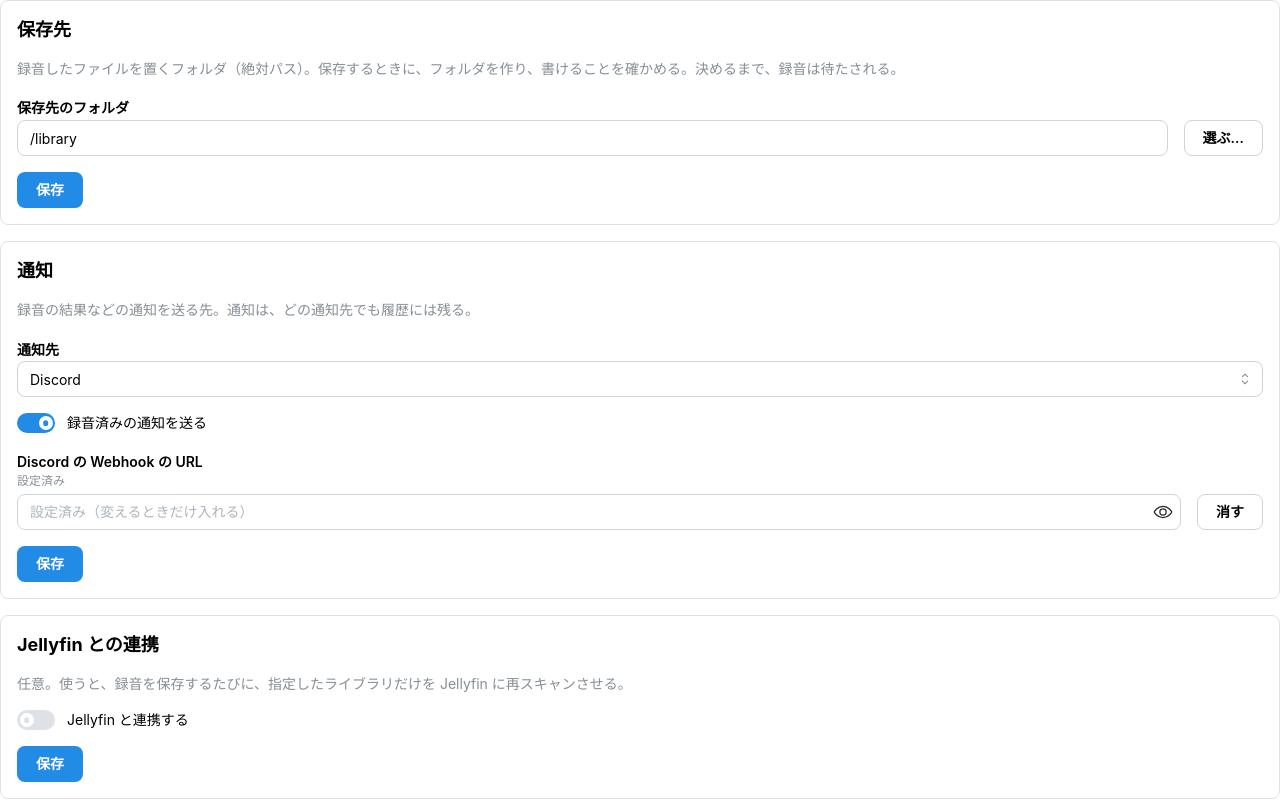
Test: SettingsPage › 保存先を変えて保存すると、library だけを送る
The width and height of the screenshot is (1280, 800).
In the field labelled "保存先のフォルダ": (592, 138) [17, 120, 1168, 156], type "/music"
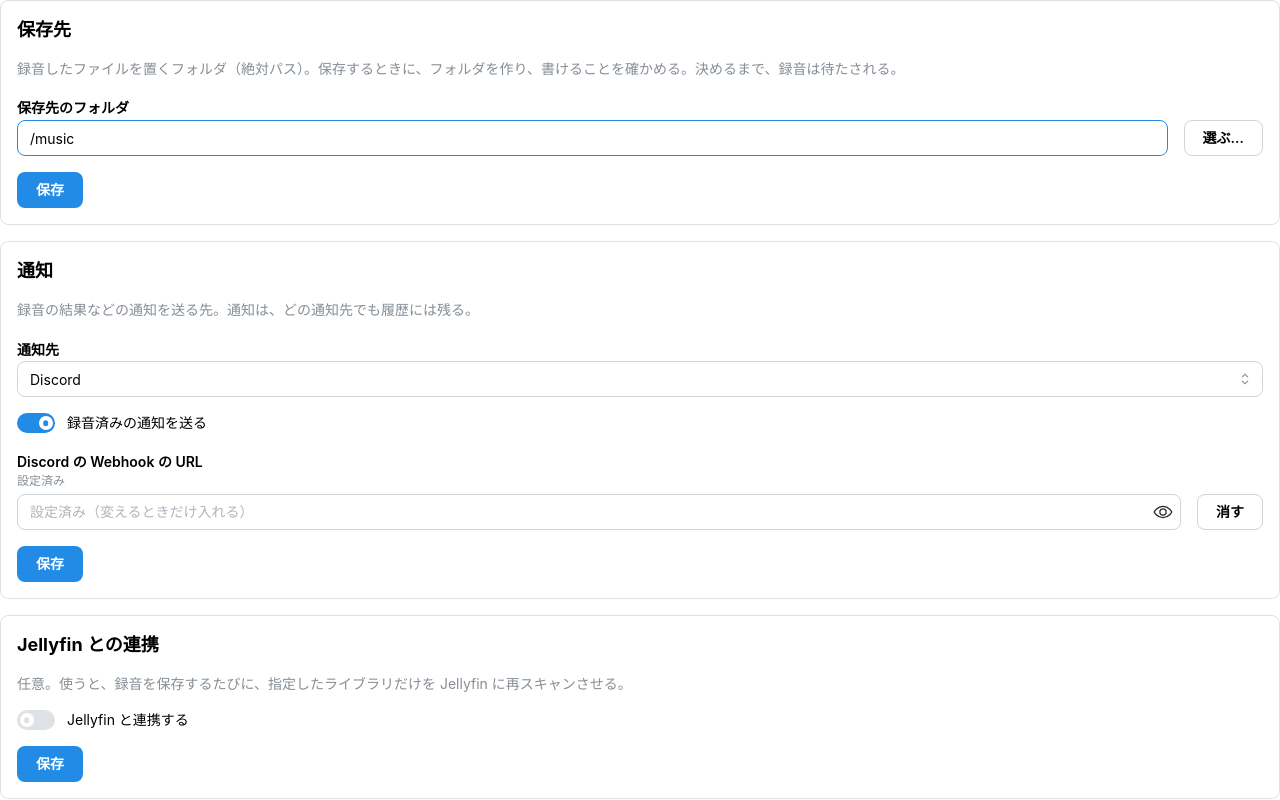
Click the button "保存" below "保存先のフォルダ": (50, 190) [17, 172, 83, 208]
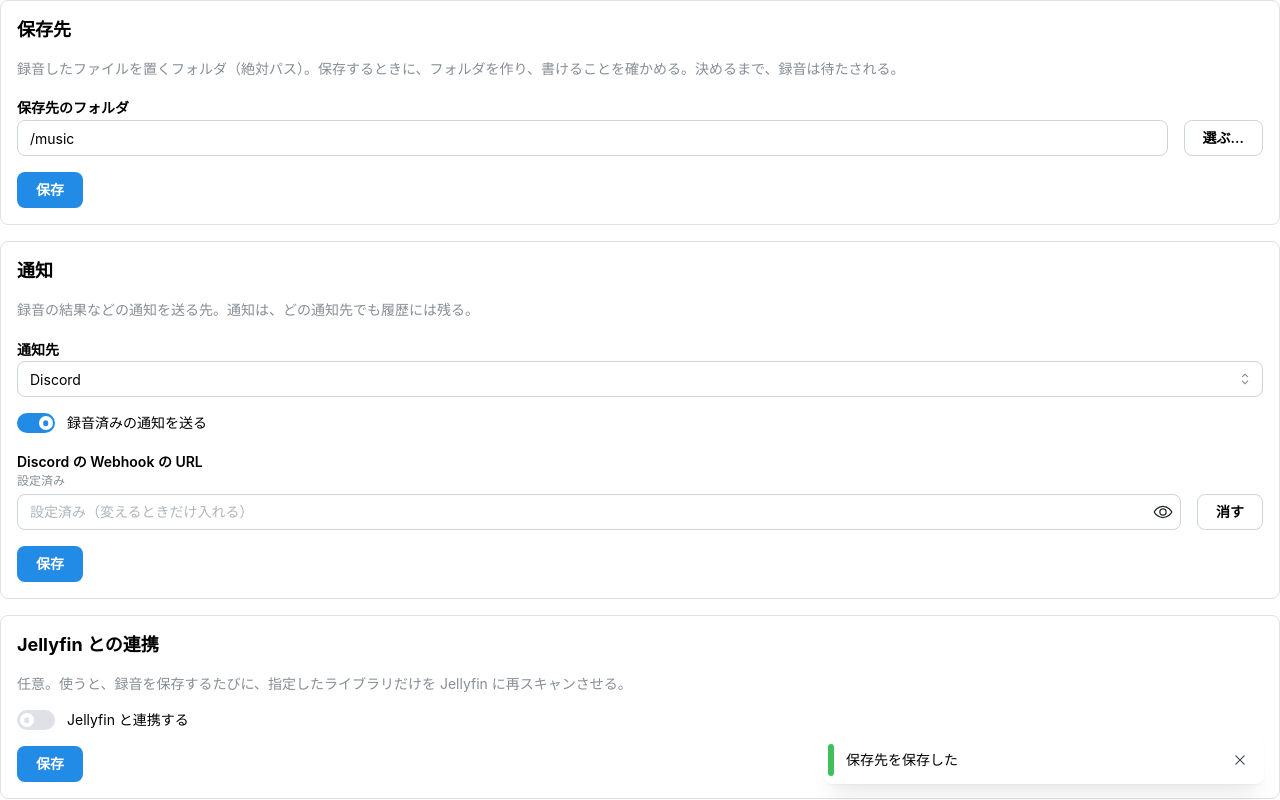
Expected: the text "保存先を保存した" is shown, [846, 751, 958, 768]
